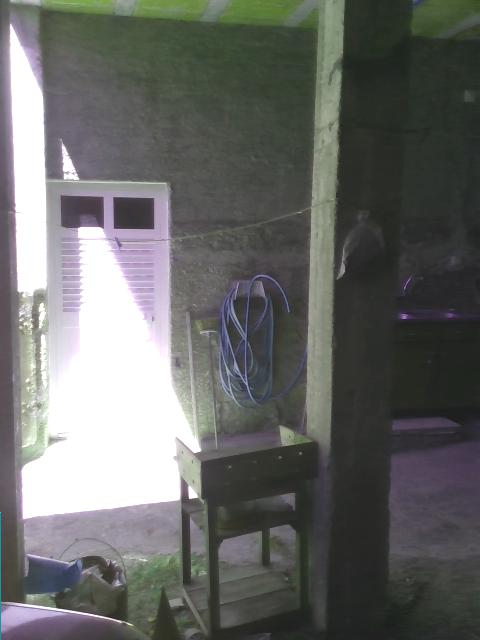closed_door: (43, 177, 167, 447)
